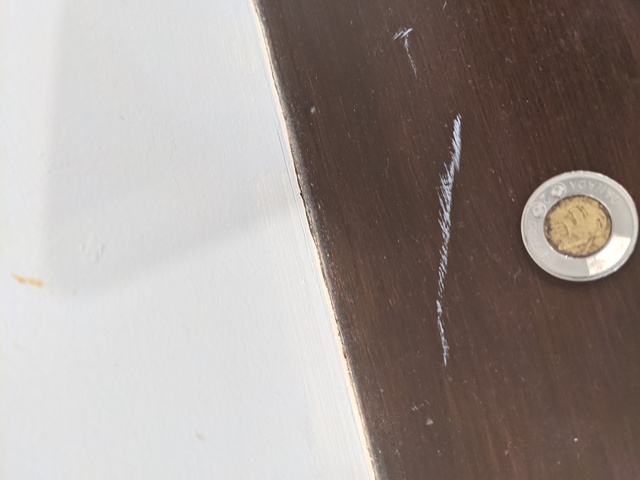twonie: (513, 159, 636, 291)
